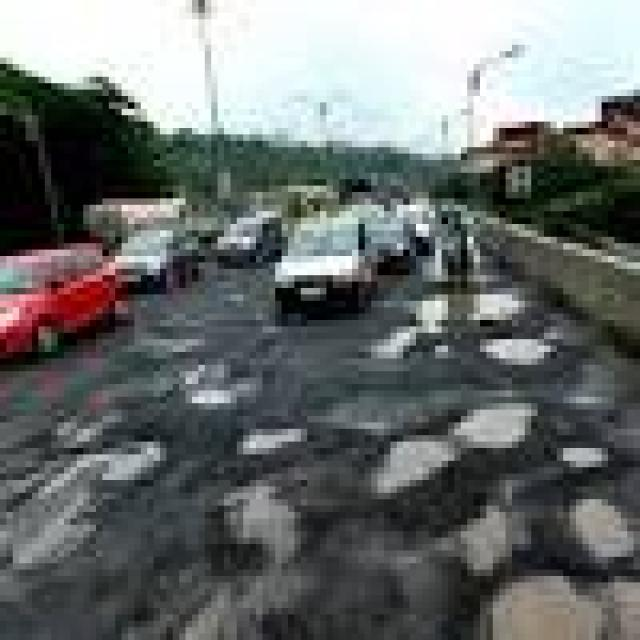Pothole: (371, 403, 538, 499), (493, 576, 640, 640), (570, 499, 634, 563), (480, 333, 550, 365)
